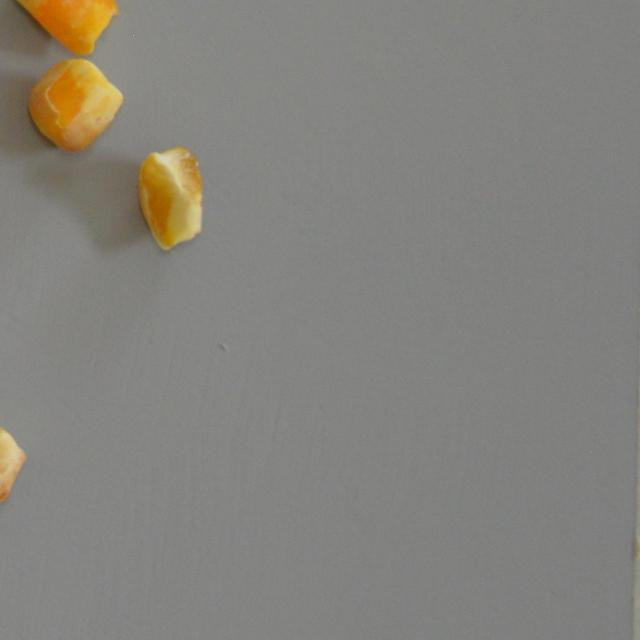dañado: (0, 424, 28, 510)
pelicula: (26, 56, 124, 150), (135, 146, 206, 252), (0, 0, 118, 54)
